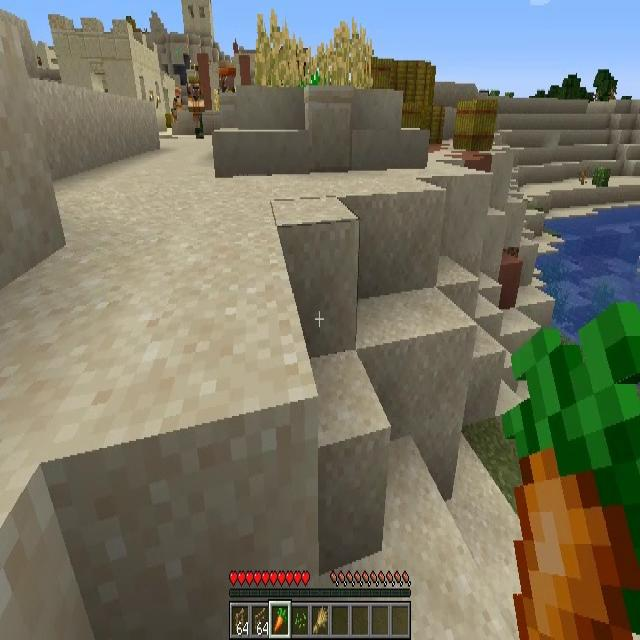people: (186, 76, 205, 140), (218, 68, 236, 93)
